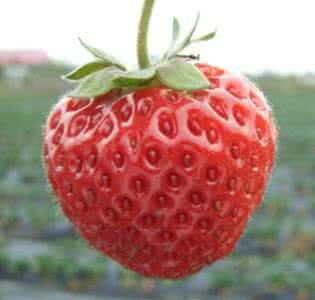strawberry: (43, 39, 275, 279)
